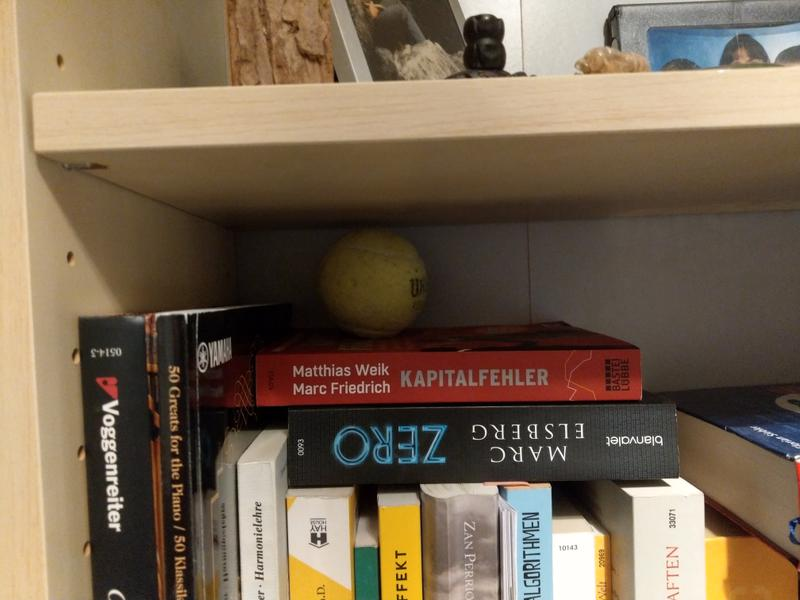Tennisball: (319, 216, 428, 342)
